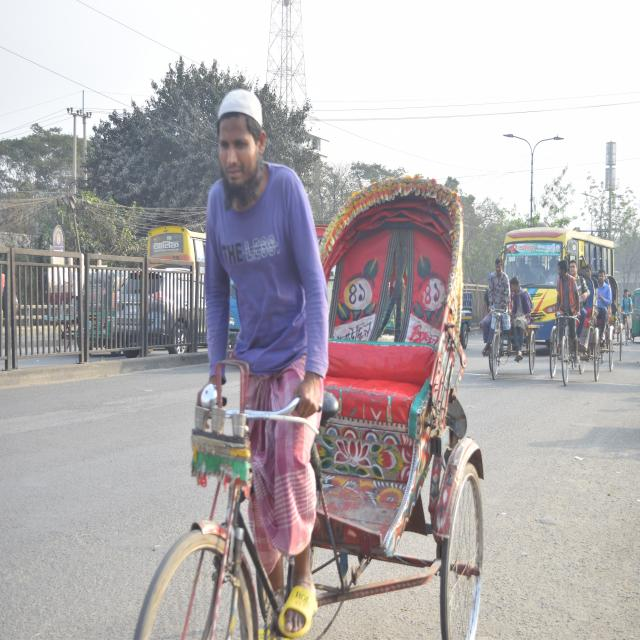bus: (502, 222, 613, 342), (143, 215, 208, 270)
car: (110, 258, 209, 352)
